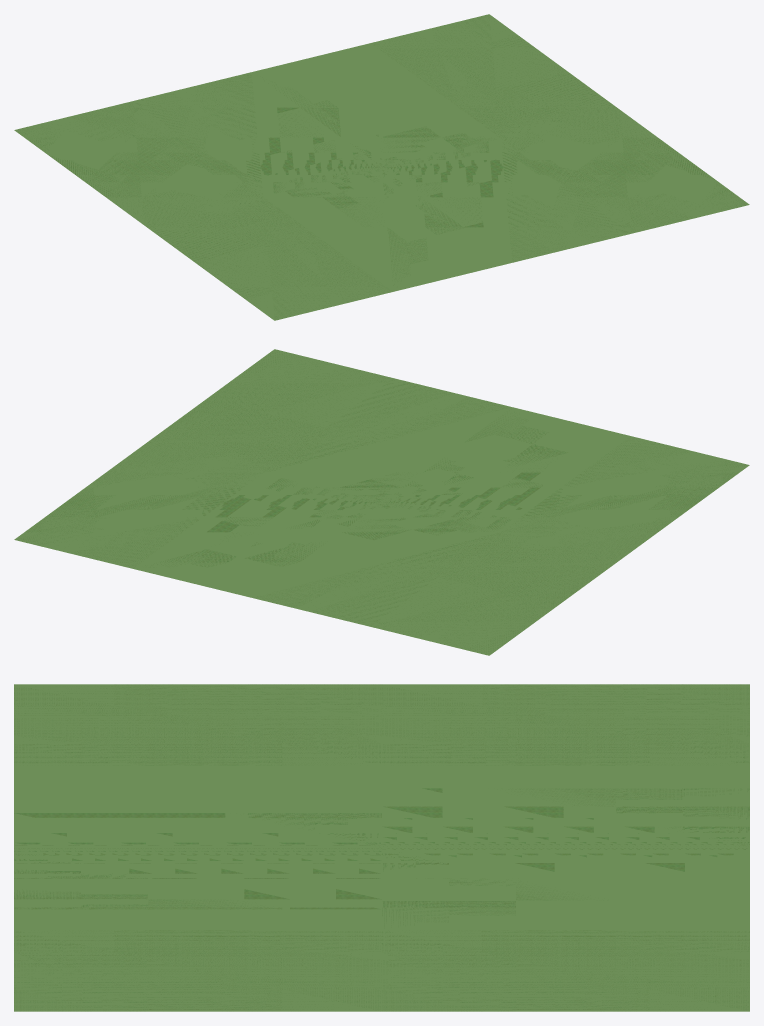
Rendered from grass-ground2.glb.
3 renders of one model, top to bottom at view 1: azimuth 30°, elevation 25°; view 2: azimuth 150°, elevation 25°; view 3: azimuth 270°, elevation 25°, orthographic. The views are drawn at different scales.
Visible parts, largest first — view 1: SketchUp, SketchUp.002, SketchUp.001, SketchUp.003, SketchUp.004, SketchUp.006, SketchUp.005, SketchUp.007; view 2: SketchUp.001, SketchUp.003, SketchUp, SketchUp.002, SketchUp.005, SketchUp.007, SketchUp.004, SketchUp.006; view 3: SketchUp, SketchUp.001, SketchUp.002, SketchUp.003, SketchUp.004, SketchUp.005, SketchUp.006, SketchUp.007.
Boxes of the visible parts, x1,y1,x2,y2 form: SketchUp: [252, 43, 500, 167]; SketchUp.002: [263, 167, 511, 291]; SketchUp.001: [133, 72, 381, 196]; SketchUp.003: [382, 138, 630, 262]; SketchUp.004: [501, 109, 749, 233]; SketchUp.006: [14, 101, 262, 225]; SketchUp.005: [371, 14, 619, 138]; SketchUp.007: [144, 196, 392, 320]; SketchUp.001: [252, 502, 500, 626]; SketchUp.003: [263, 378, 511, 502]; SketchUp: [133, 473, 381, 597]; SketchUp.002: [382, 407, 630, 531]; SketchUp.005: [14, 444, 262, 568]; SketchUp.007: [501, 436, 749, 560]; SketchUp.004: [144, 349, 392, 473]; SketchUp.006: [371, 531, 619, 655]; SketchUp: [382, 848, 749, 929]; SketchUp.001: [382, 766, 749, 847]; SketchUp.002: [14, 766, 381, 847]; SketchUp.003: [14, 848, 381, 929]; SketchUp.004: [14, 930, 381, 1011]; SketchUp.005: [382, 930, 749, 1011]; SketchUp.006: [382, 684, 749, 765]; SketchUp.007: [14, 684, 381, 765].
Bounding box in the file's own units: 40.51 × 0 × 38.46.
1 material, 1 textured.
